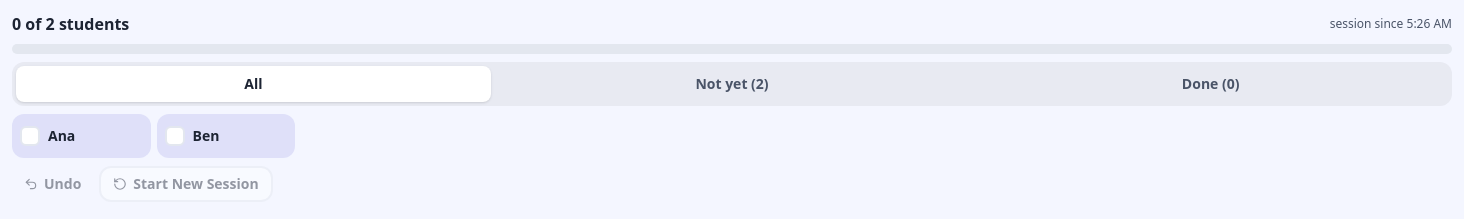
Test: class switching › student widgets show the selected class's roster
The image size is (1464, 219).
Later steps or results of the test are not shown.
Check: the text "Ana" is shown, box left=48, top=126, right=75, bottom=146
Click the checkbox labelled "Ana": (81, 136) left=12, top=114, right=151, bottom=158
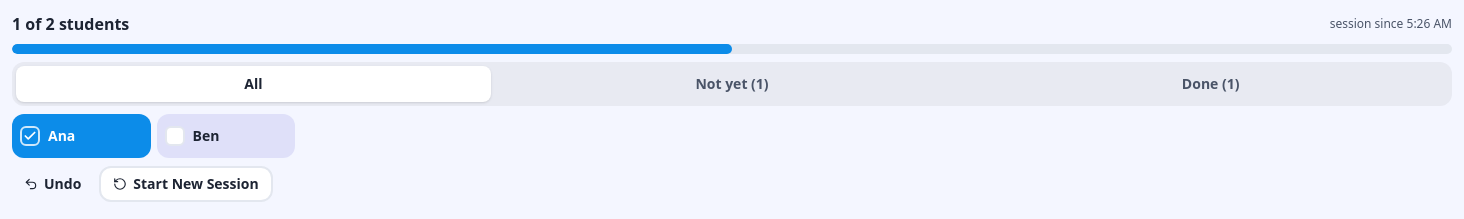
Check: the text with test id "participation-progress" shows "1 of 2", box left=12, top=13, right=129, bottom=35
